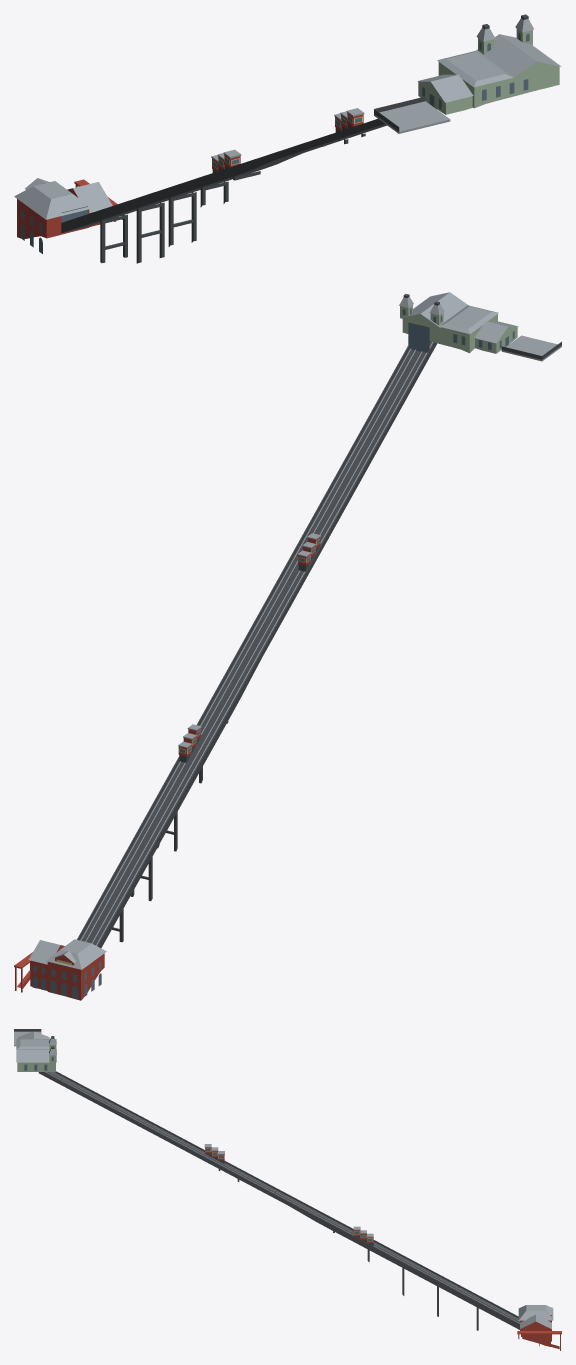
The model's file is pit-duquesne-incline.glb.
The picture shows the model from 3 angles, top to bottom: view 1: azimuth 30°, elevation 25°; view 2: azimuth 150°, elevation 25°; view 3: azimuth 270°, elevation 25°; orthographic projection. The views are drawn at different scales.
Parts seen in each view (by area): view 1: Duquesne Incline; view 2: Duquesne Incline; view 3: Duquesne Incline.
Boxes of the visible parts, x1,y1,x2,y2 form: Duquesne Incline: (14, 14, 561, 263); Duquesne Incline: (14, 292, 561, 1000); Duquesne Incline: (14, 1029, 561, 1350).
Size of the model in its own units: 48 by 132 by 221.
